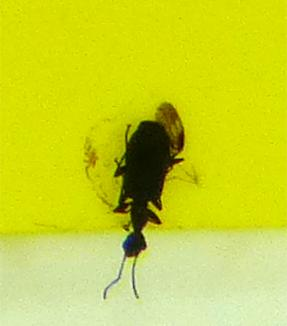Coleoptera: (100, 100, 188, 301)
